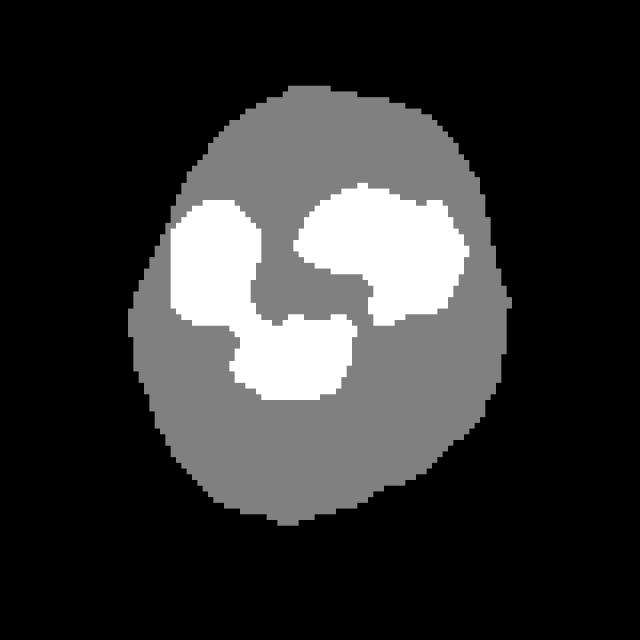WBC: (128, 69, 523, 532)
